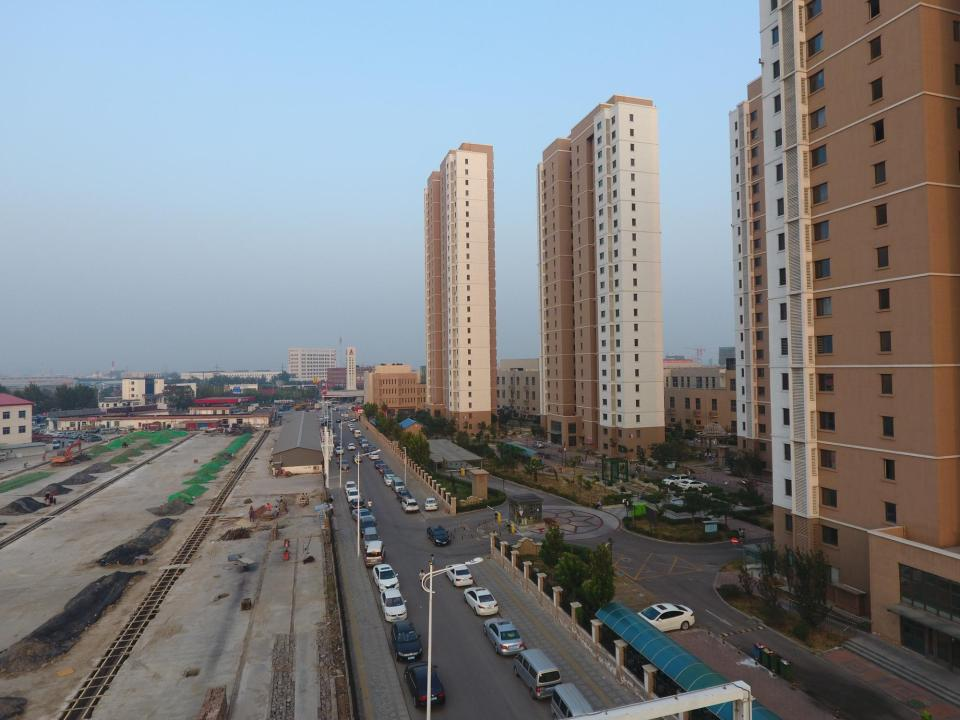car: (626, 603, 694, 634), (404, 662, 446, 709), (484, 618, 524, 655), (391, 620, 422, 662), (464, 587, 498, 616), (380, 589, 408, 622), (372, 564, 399, 592), (445, 564, 473, 587), (426, 525, 450, 546), (361, 527, 380, 551), (662, 473, 689, 487), (352, 509, 376, 524), (360, 518, 377, 538), (678, 480, 708, 491), (349, 498, 366, 515), (401, 498, 419, 513), (347, 488, 361, 502), (396, 491, 412, 503), (42, 429, 66, 437), (424, 497, 437, 511), (345, 481, 357, 494), (85, 435, 104, 443), (384, 474, 395, 486), (63, 430, 81, 437), (378, 464, 390, 474), (362, 446, 377, 454), (38, 429, 57, 435), (68, 433, 84, 440), (32, 428, 46, 436), (49, 439, 60, 449), (81, 435, 99, 441), (52, 432, 70, 438), (74, 432, 91, 438), (374, 460, 384, 470), (382, 470, 394, 478), (339, 460, 349, 469), (336, 445, 345, 455), (533, 417, 544, 425), (82, 428, 96, 434), (532, 441, 544, 448), (352, 454, 362, 462), (66, 440, 77, 447), (347, 442, 356, 450), (368, 453, 379, 459), (322, 420, 333, 426), (93, 429, 107, 433), (352, 428, 360, 434), (328, 423, 336, 429), (350, 424, 357, 430), (350, 426, 357, 431), (336, 400, 344, 404), (348, 422, 354, 427), (322, 411, 328, 416), (336, 417, 341, 423), (348, 406, 355, 410), (324, 414, 329, 419), (308, 406, 314, 410)
truck: (278, 403, 292, 411), (331, 438, 342, 448), (294, 403, 307, 410), (333, 406, 340, 411), (344, 412, 348, 418)
van: (514, 648, 562, 700), (551, 683, 598, 720), (366, 541, 385, 567), (391, 477, 405, 494), (352, 430, 363, 439), (99, 428, 115, 434), (361, 440, 368, 448), (359, 408, 368, 413), (277, 412, 283, 418), (354, 399, 360, 403)
